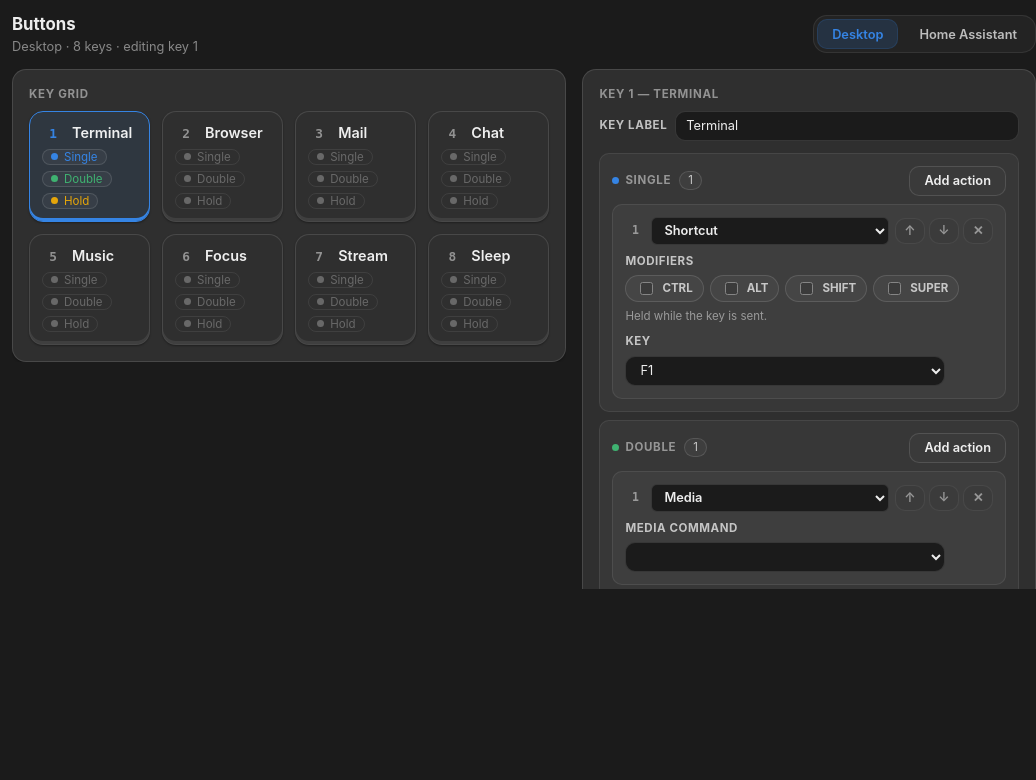
Test: mode switch › asks the core to switch mode and renders that mode’s cards
The width and height of the screenshot is (1036, 780).
Click the button "Home Assistant": x=968, y=34 [904,19,1032,49]
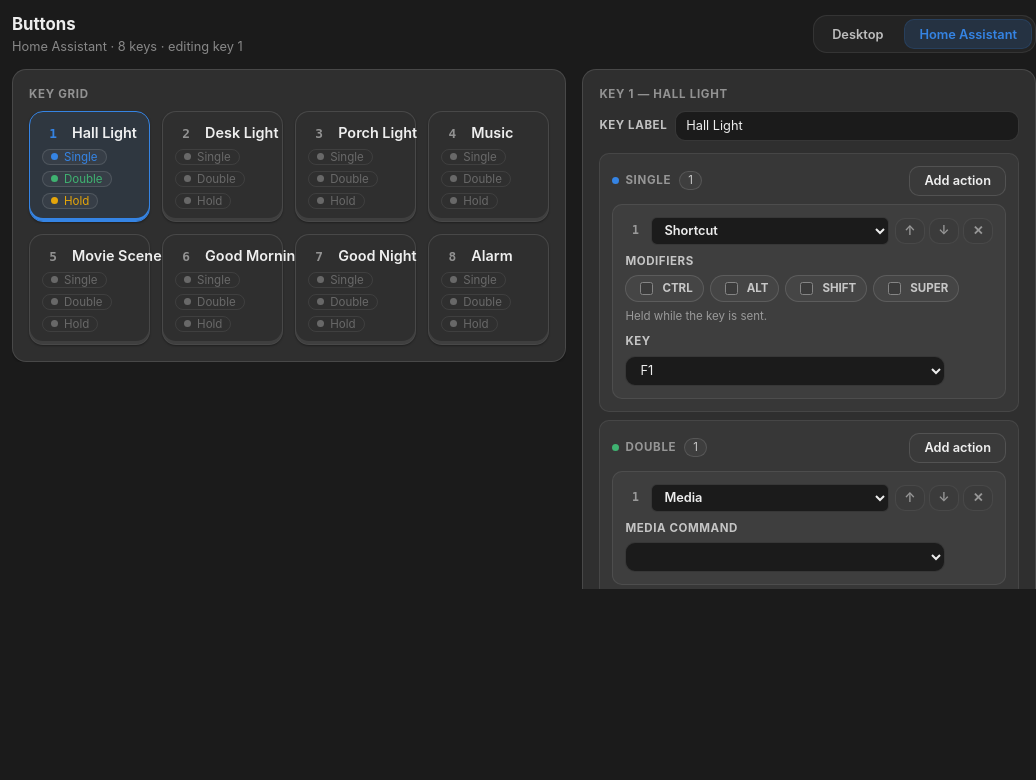
Check: the button "Terminal" is gone
